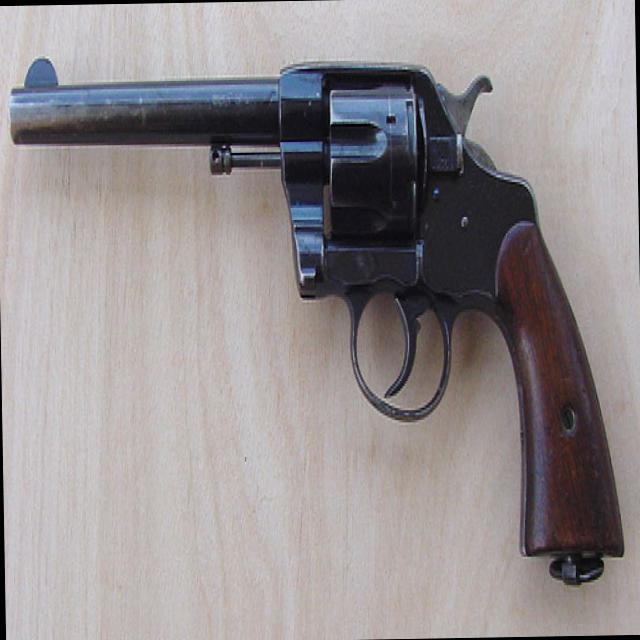handgun: (10, 39, 622, 567)
